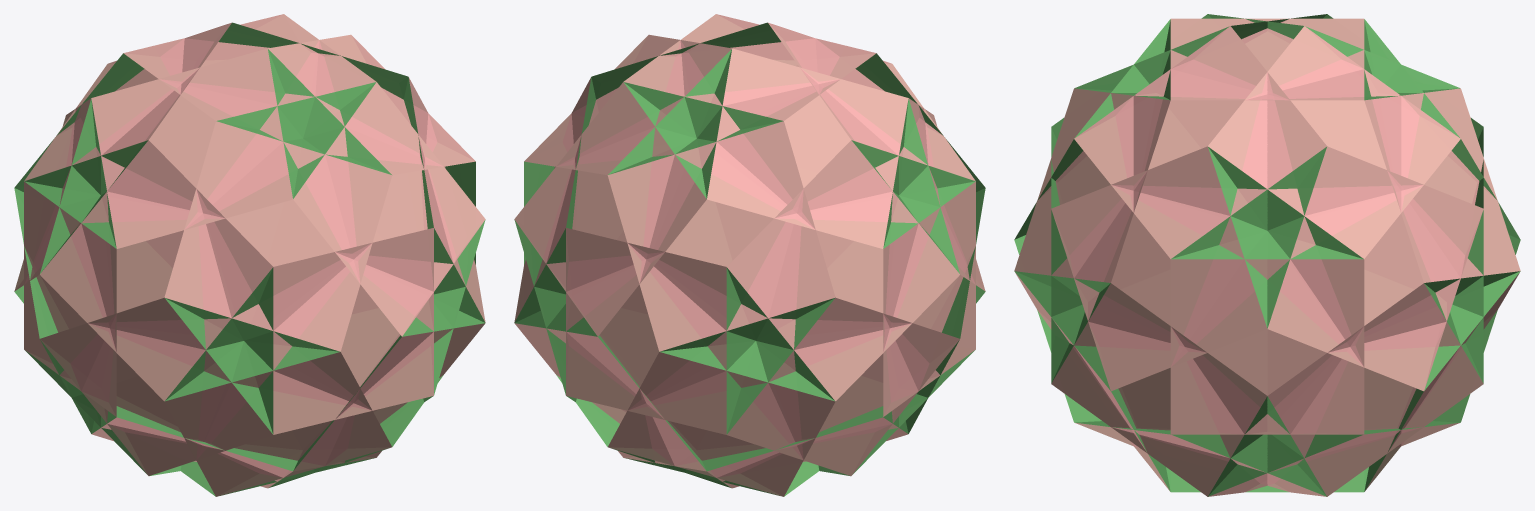
The model's file is Rhombicosahedron.obj.
3 views of the same model, side by side, from view 1: azimuth 30°, elevation 25°; view 2: azimuth 150°, elevation 25°; view 3: azimuth 270°, elevation 25° (orthographic). The views are drawn at different scales.
Size of the model in its own units: 2.62 by 2.62 by 2.62.
